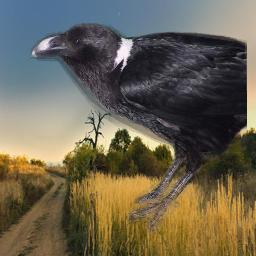Crow: (30, 22, 247, 235)
